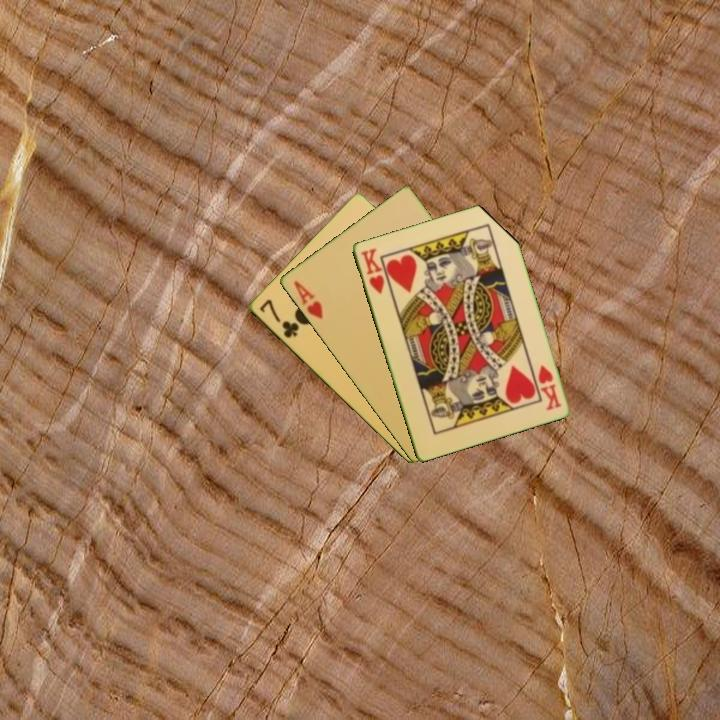7c: (255, 295, 301, 341)
Ah: (289, 277, 326, 322)
Kh: (356, 245, 387, 297), (534, 361, 564, 413)
